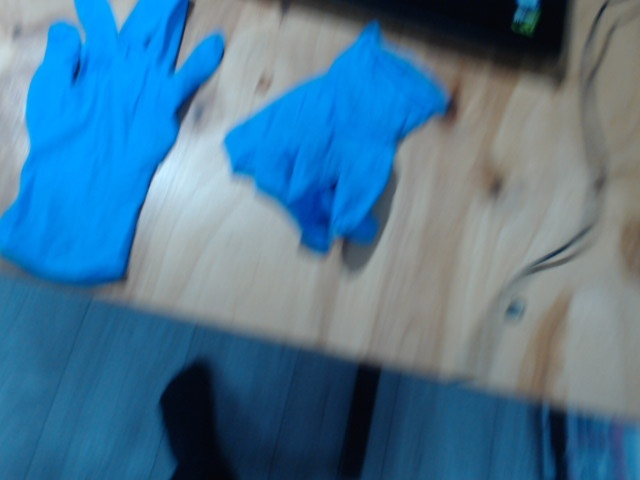medical_glove: (225, 27, 453, 246)
